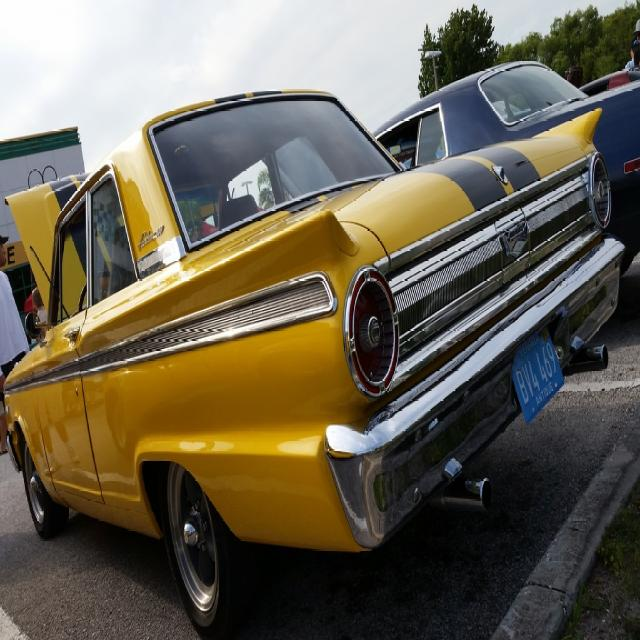car: (1, 87, 625, 638)
